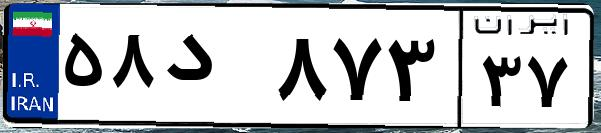3: (385, 28, 445, 110), (475, 38, 525, 113)
5: (57, 26, 110, 100)
7: (330, 28, 385, 110), (525, 38, 570, 115)
8: (270, 28, 330, 110), (110, 28, 158, 98)
د: (158, 20, 270, 120)
